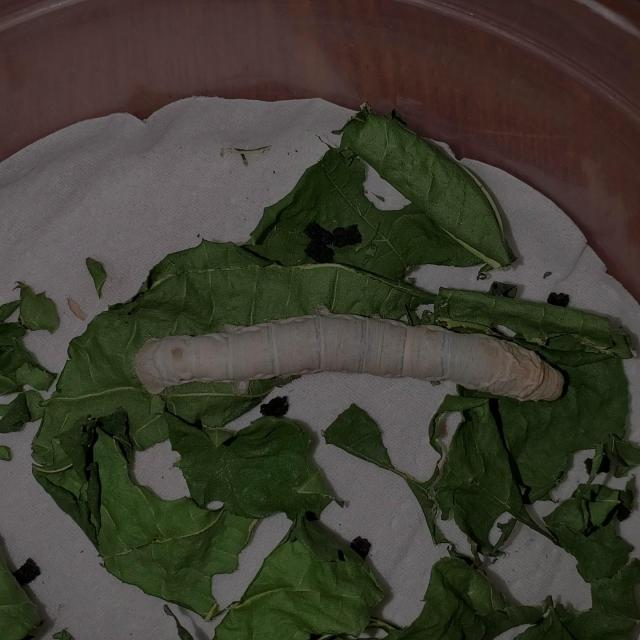Healthy: (113, 268, 610, 486)
